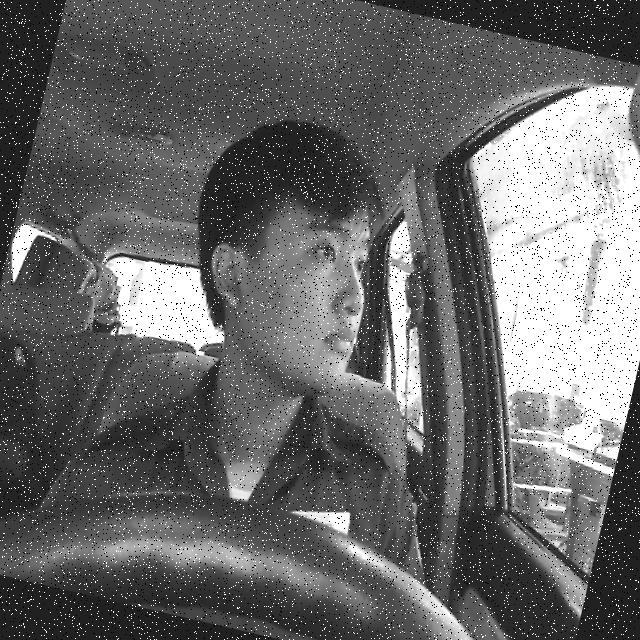seeing_right: (184, 173, 388, 402)
